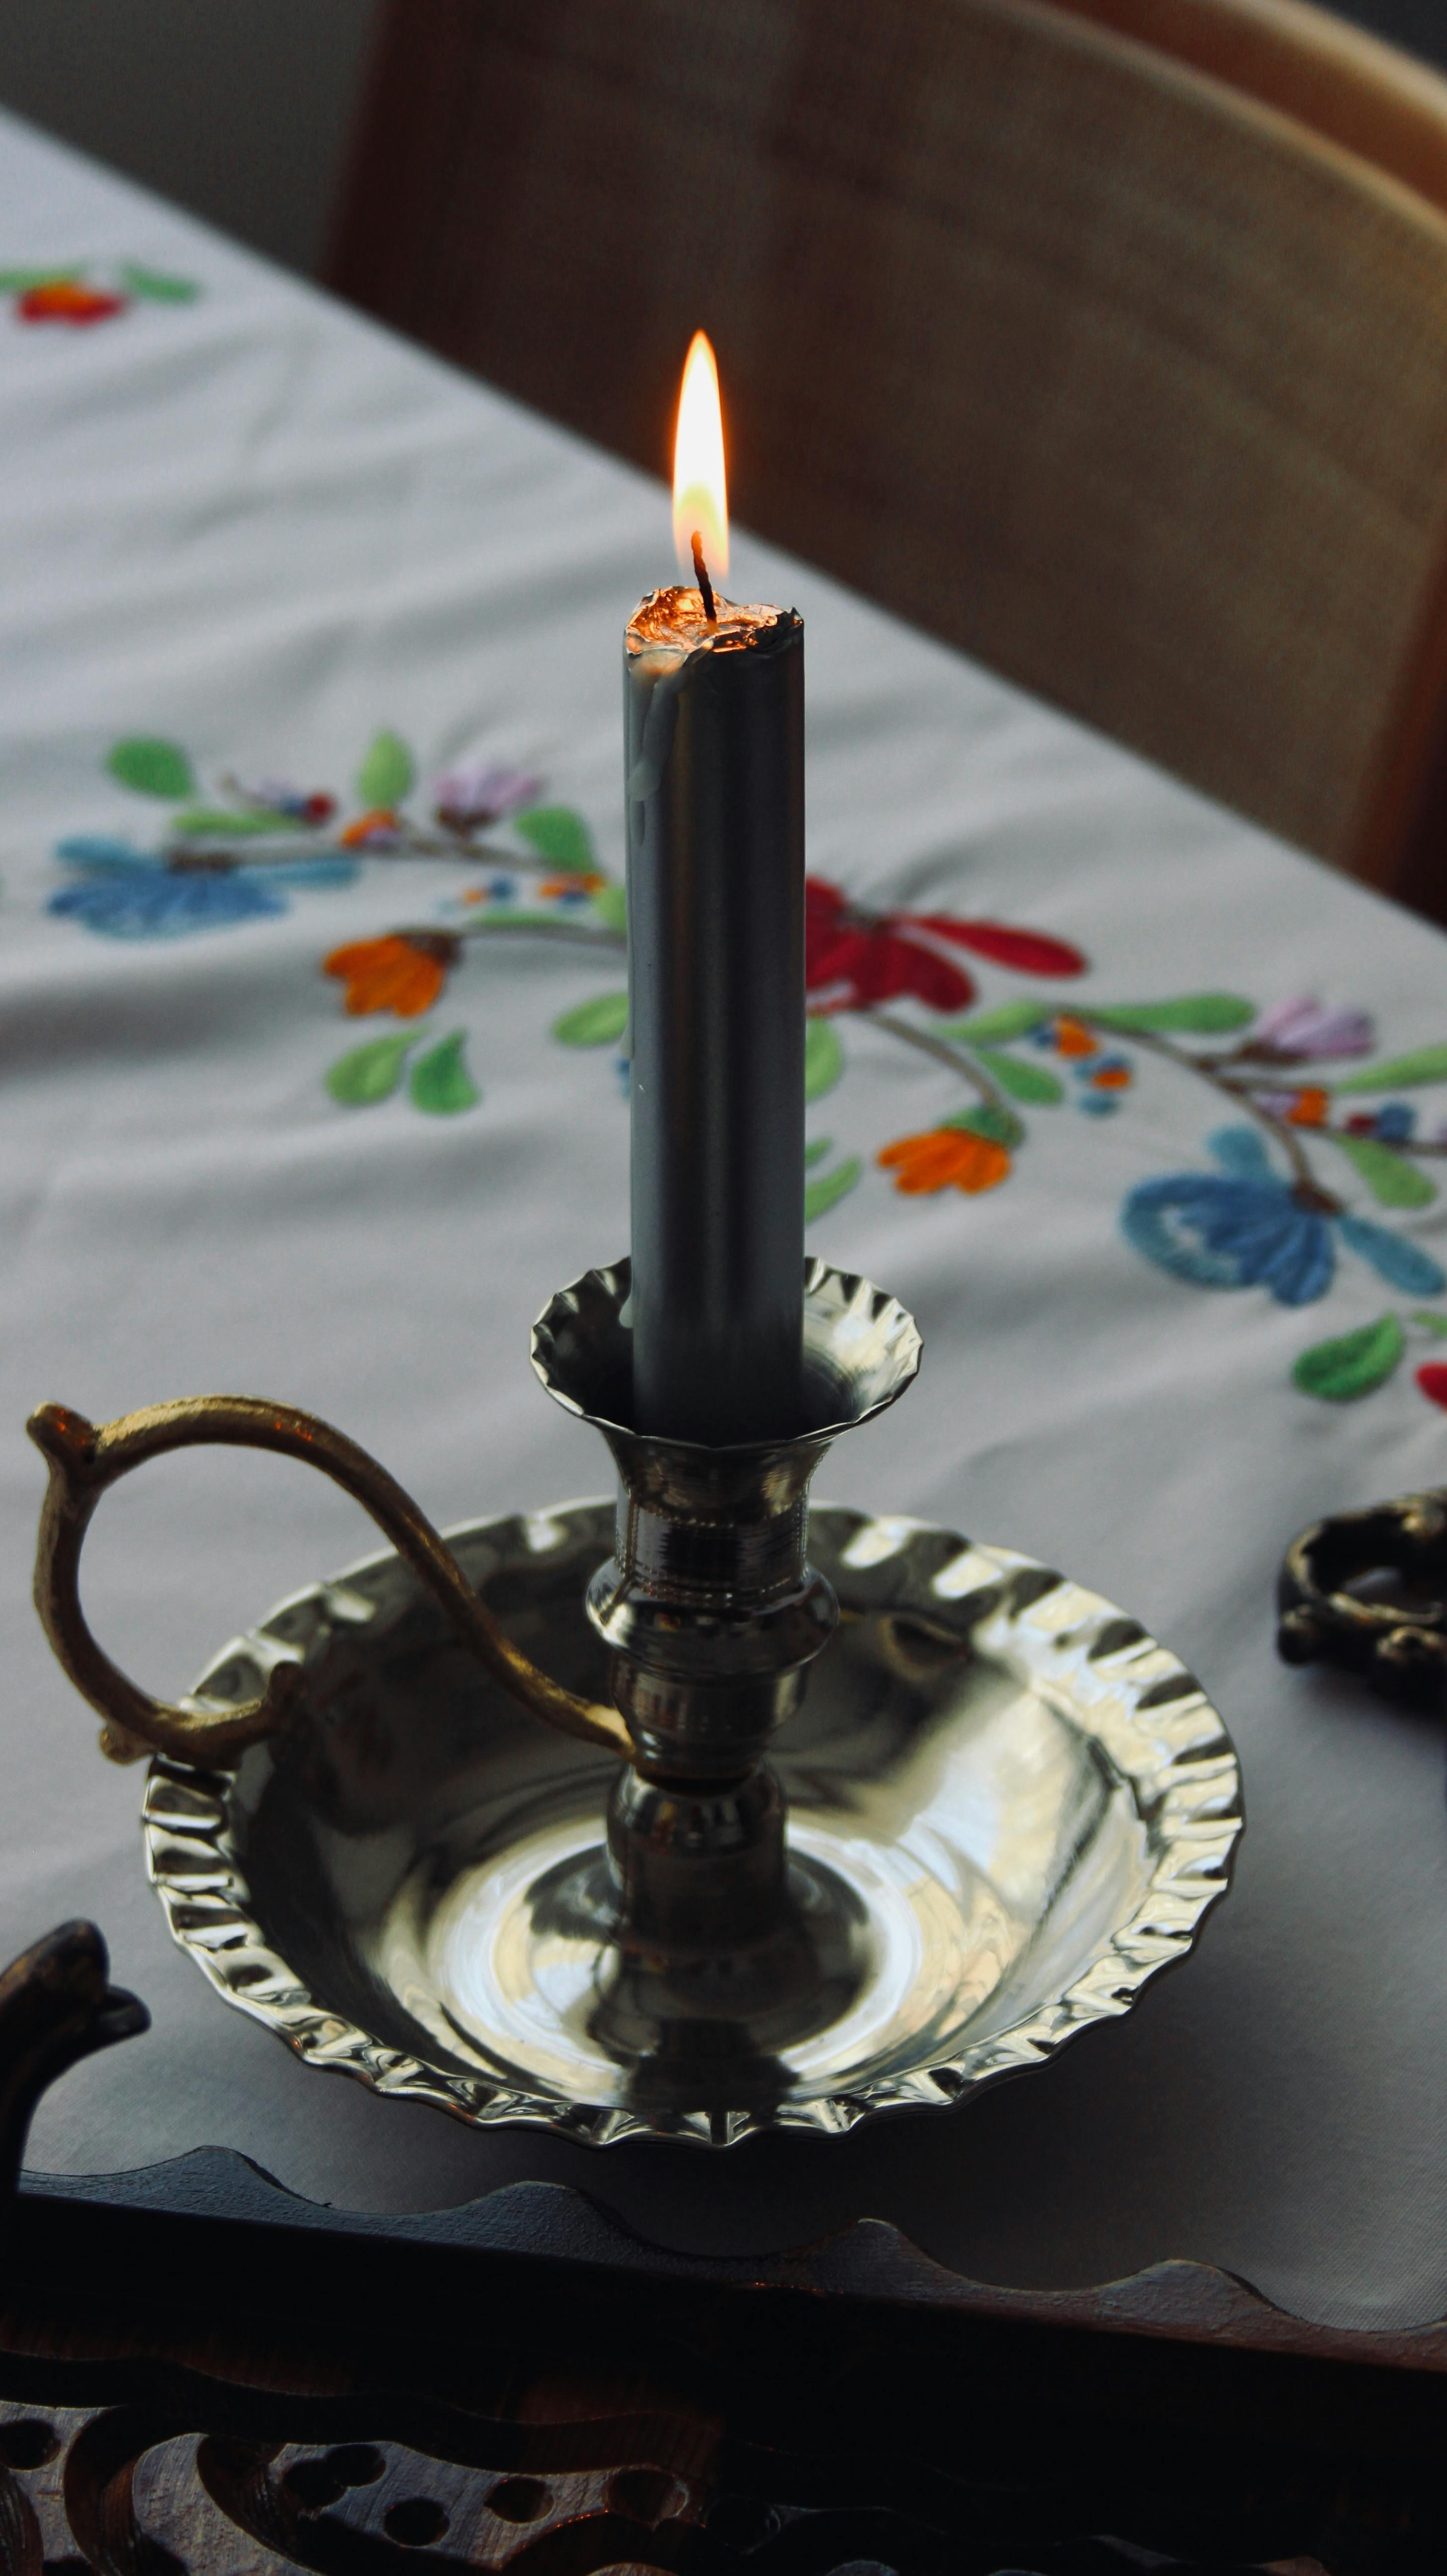Fire: (623, 324, 761, 586)
